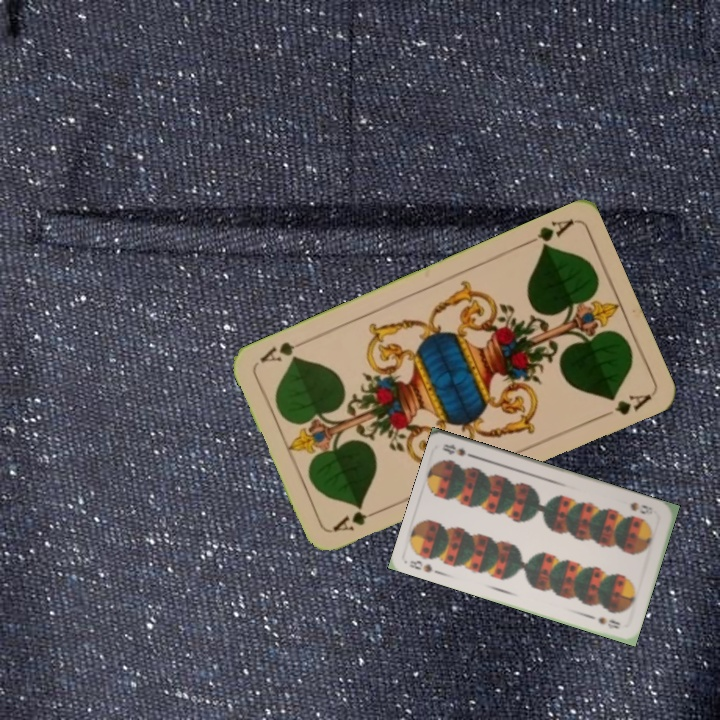GA: (520, 215, 575, 253), (329, 505, 385, 534)
S8: (405, 556, 435, 575), (626, 498, 655, 517)
